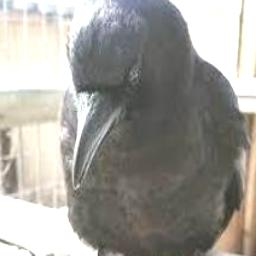Crow: (59, 0, 251, 256)
